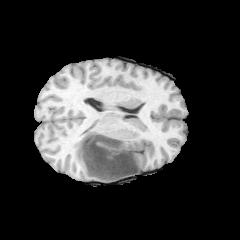glioma: (72, 125, 145, 182)
